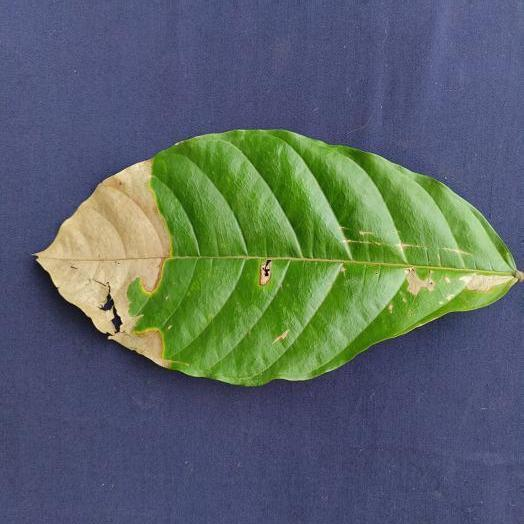Potassium: (37, 130, 523, 384)
